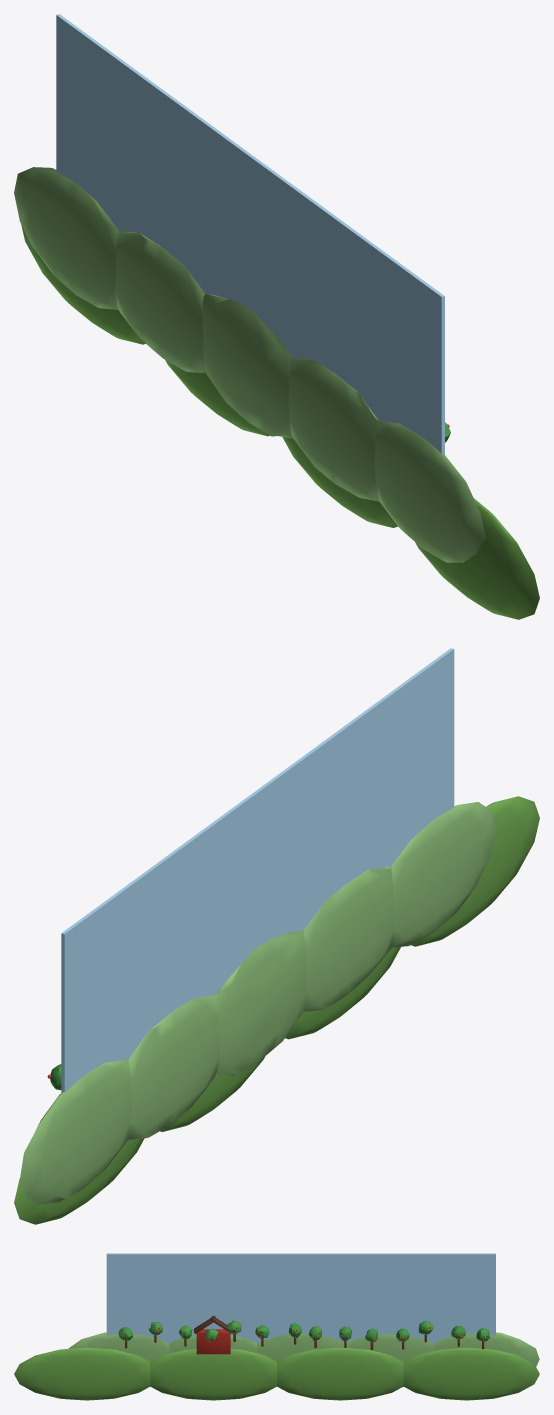
File: BackdropOrchard.fbx
3 views of the same model, one above another, from view 1: azimuth 30°, elevation 25°; view 2: azimuth 150°, elevation 25°; view 3: azimuth 270°, elevation 25° (orthographic). The views are drawn at different scales.
Parts seen in each view (by area): view 1: BackdropOrchard; view 2: BackdropOrchard; view 3: BackdropOrchard.
Part boxes in pixels (x1=…): BackdropOrchard: x1=14, y1=14, x2=539, y2=619; BackdropOrchard: x1=14, y1=648, x2=539, y2=1224; BackdropOrchard: x1=14, y1=1253, x2=539, y2=1400.
Size of the model in its own units: 396 by 3300 by 10800.
